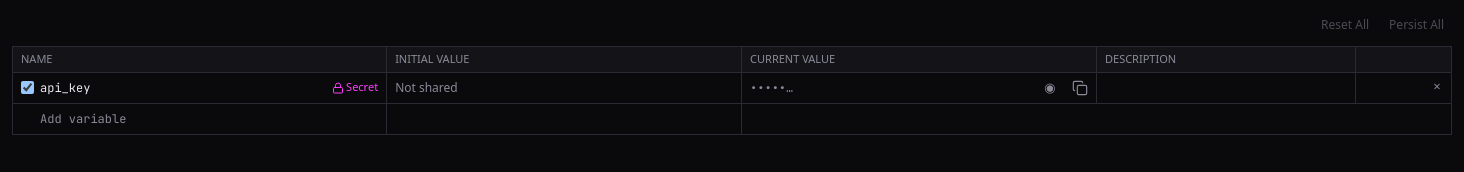
VariableTable › copies a secret through Go and shows a failure next to it
Expected: the 2nd icon is shown, [1072,80,1088,96]
Click the button named "Copy api_key". click: (1080, 88)
box: [1066,74,1094,102]
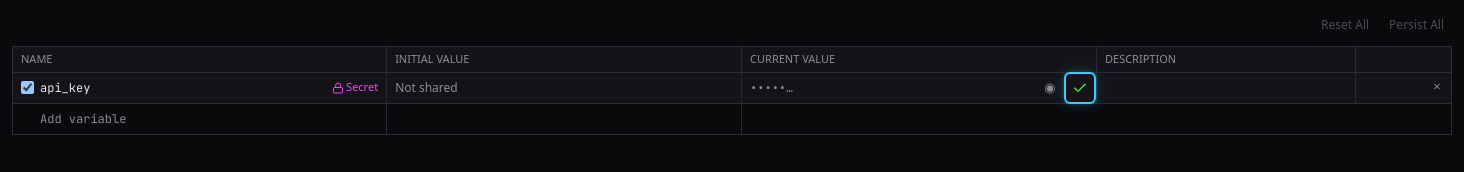
Expected: the button named "Copy api_key" has attribute title="Copied", [1066,74,1094,102]
Click the button named "Reveal api_key". click: (1050, 88)
box: [1036,74,1064,102]
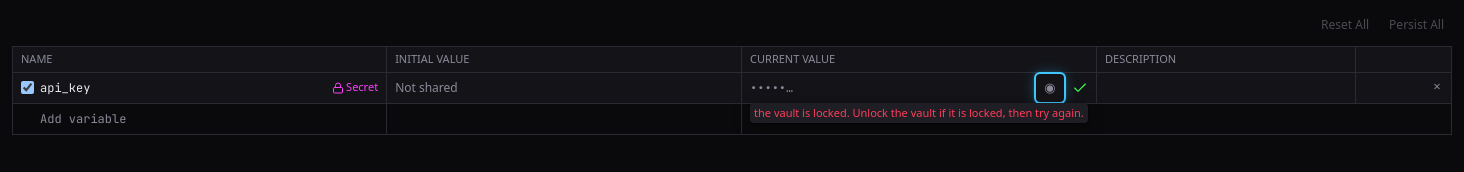
Expected: the message shows "the vault is locked", [754,104,1084,120]
